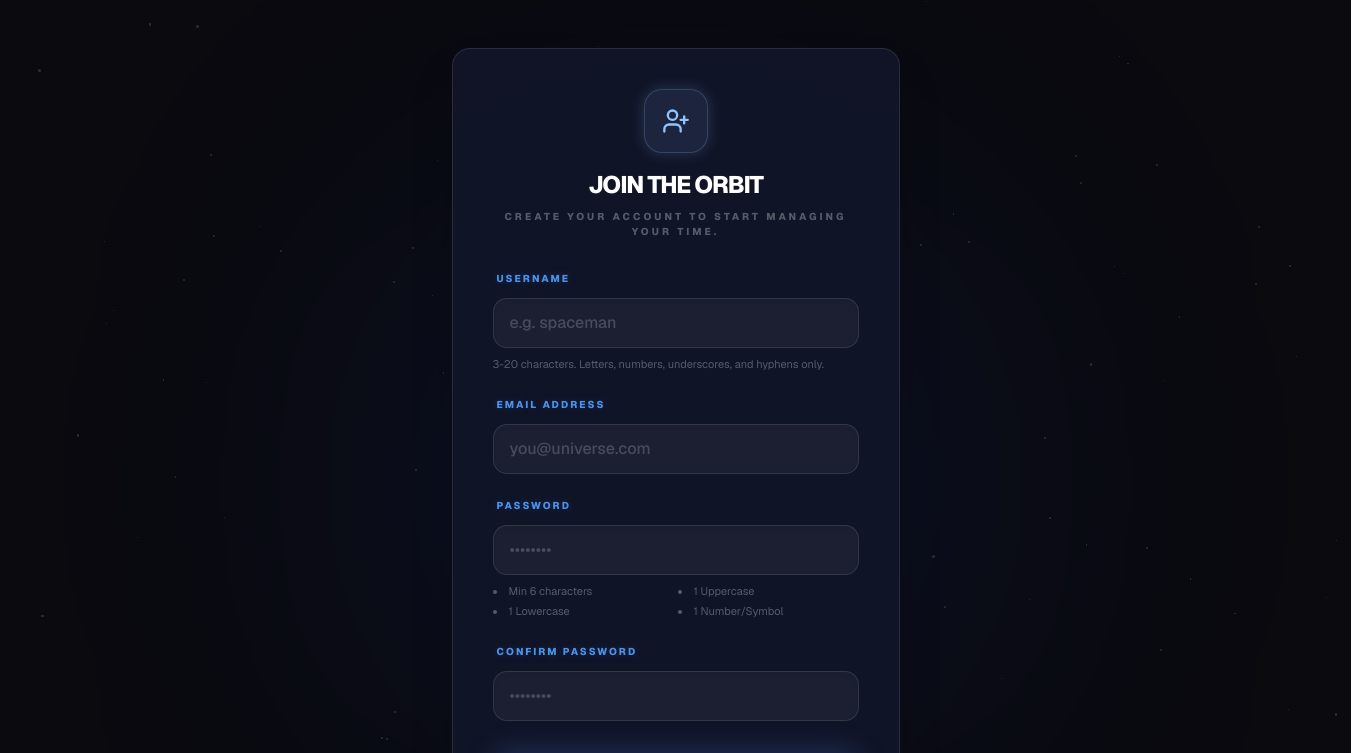
Test case: RegisterPage Component › shows password validation error
Type "testuser" into the field with placeholder "e.g. spaceman" at [676, 323], box top-left (492, 298), bottom-right (858, 348)
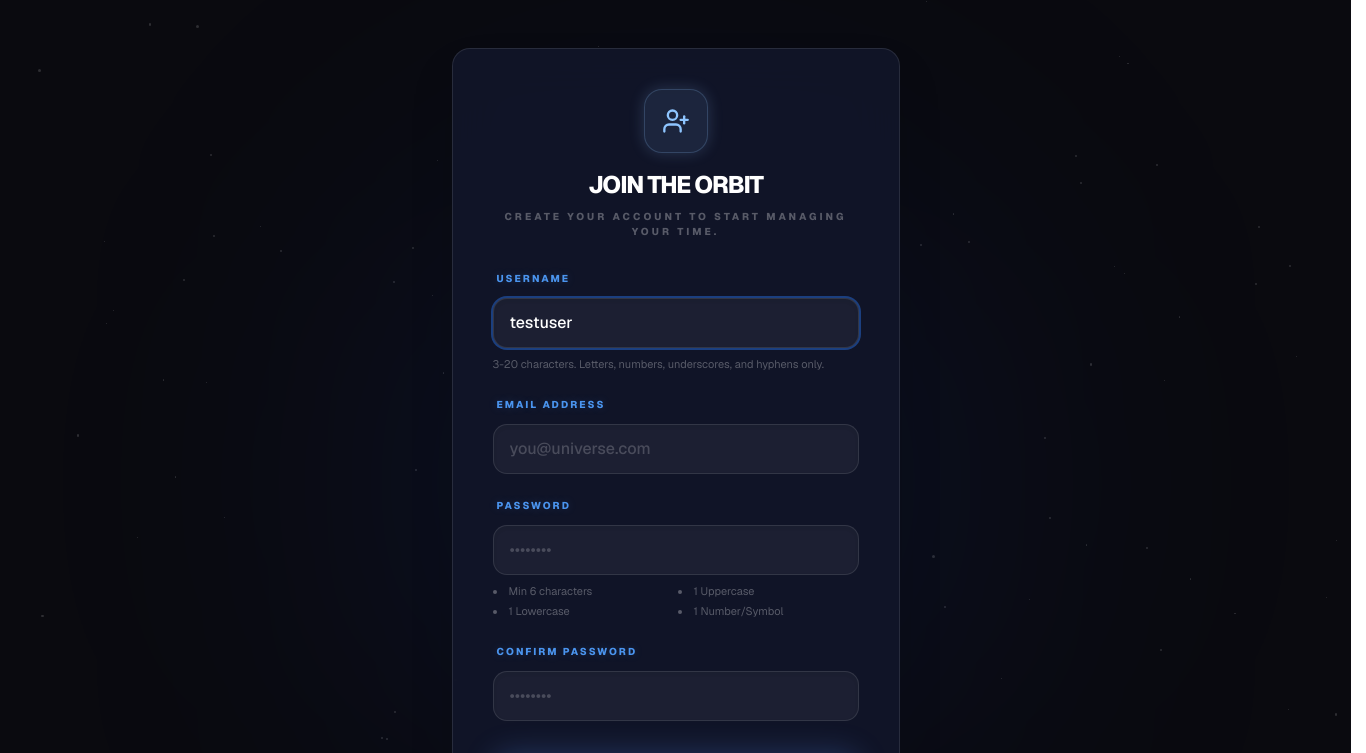
Type "test@example.com" into the field with placeholder "you@universe.com" at [676, 448], box top-left (492, 424), bottom-right (858, 474)
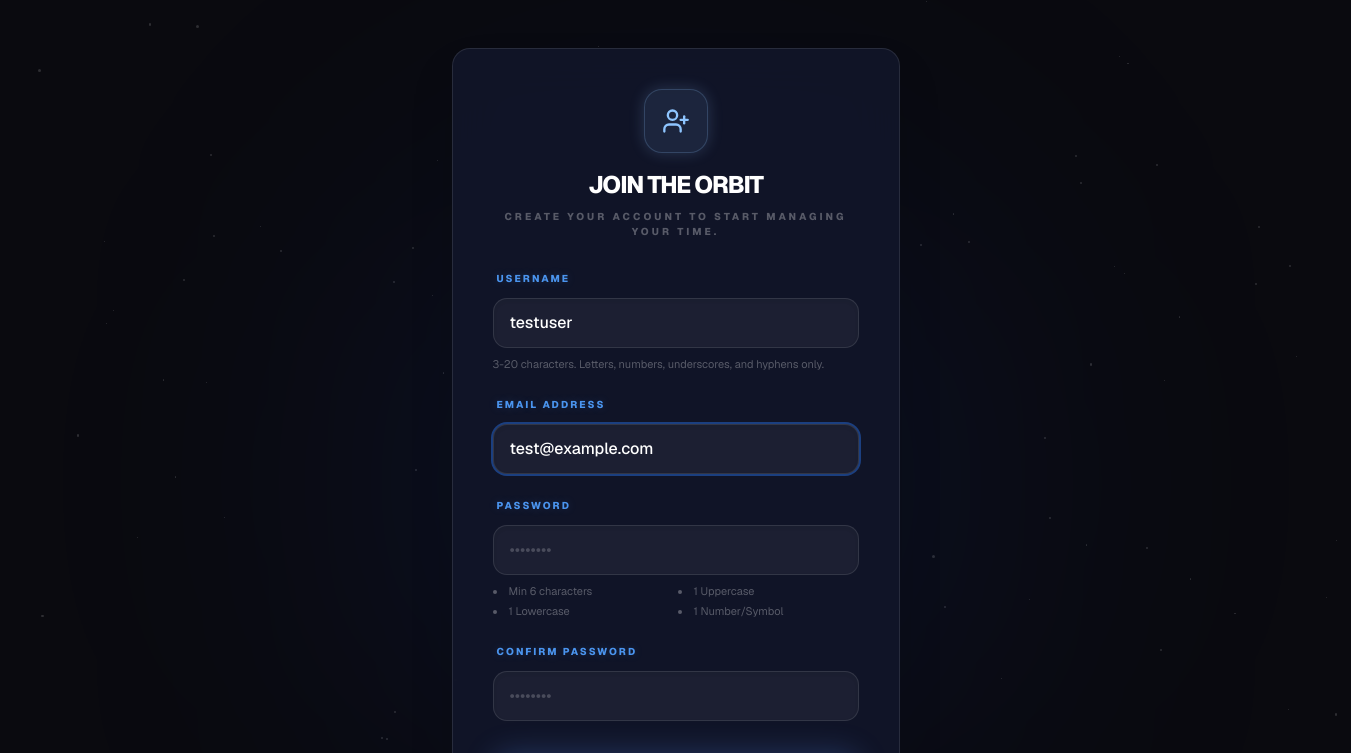
Type "weak" into the 1st password field with placeholder "••••••••" at [676, 550], box top-left (492, 524), bottom-right (858, 574)
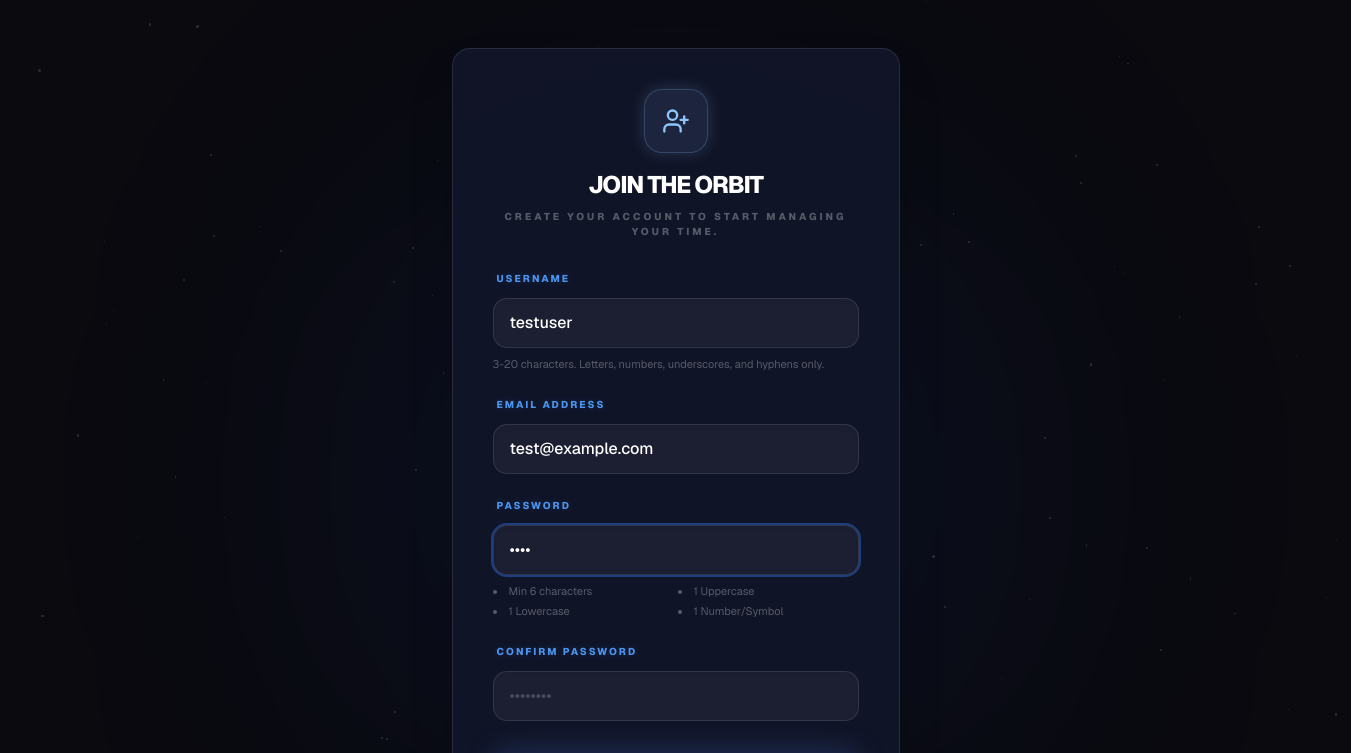
Type "weak" into the password field with placeholder "••••••••" at [676, 696], box top-left (492, 670), bottom-right (858, 720)
(page scrolled)
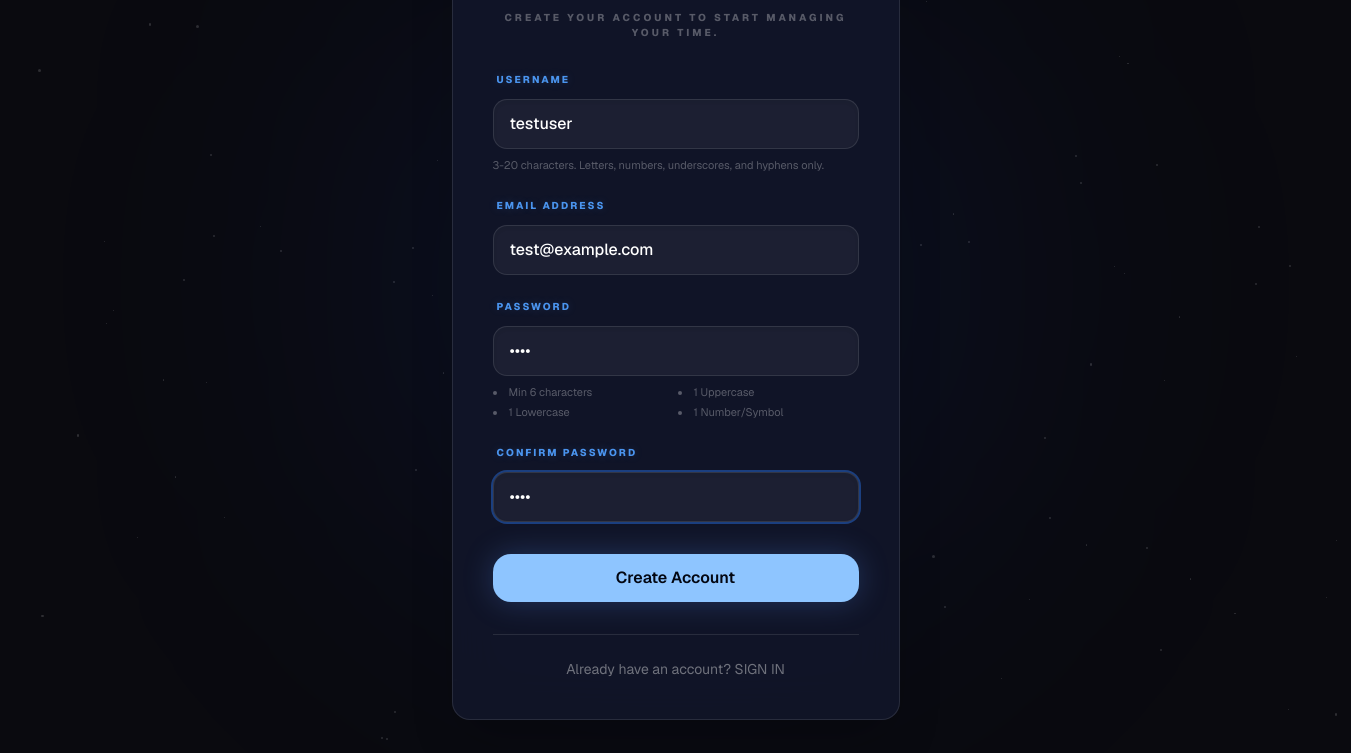
Click the button "Create Account" at [676, 578], box top-left (492, 554), bottom-right (858, 602)
(page scrolled)
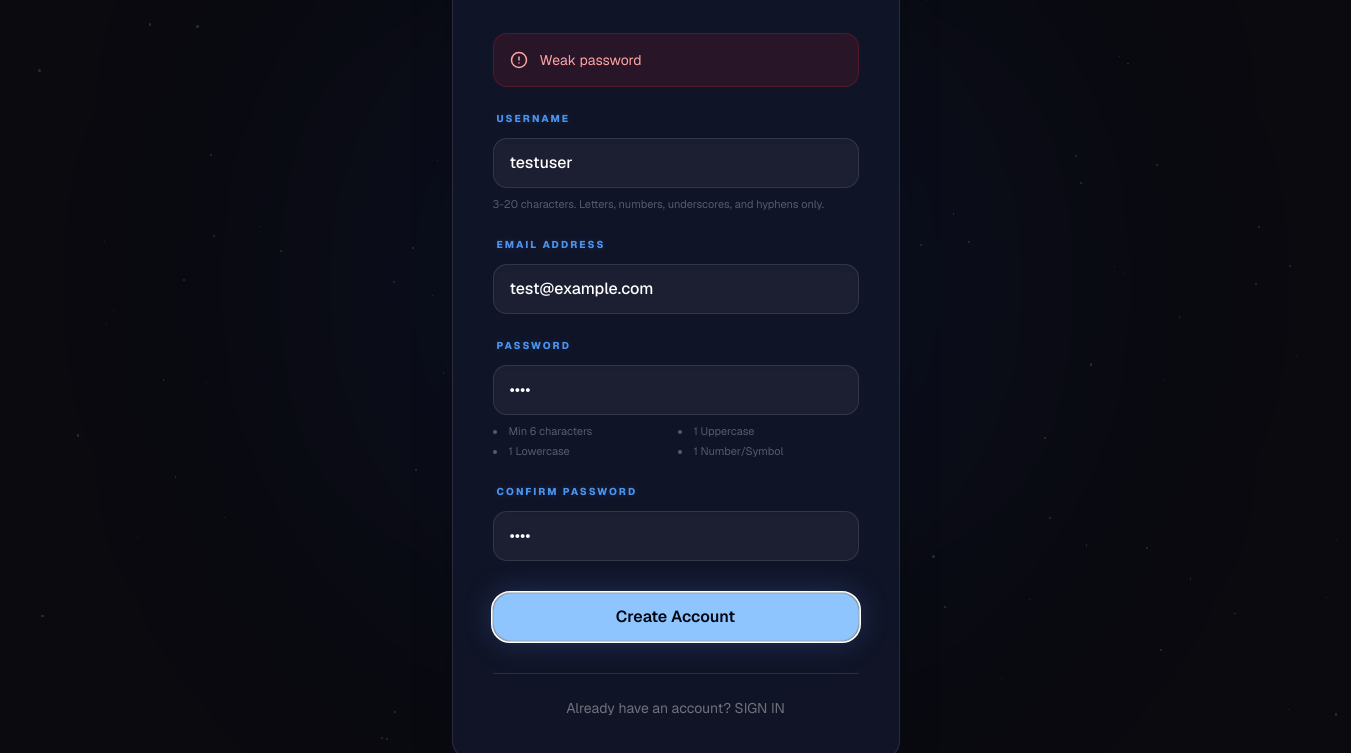
Expected: the text "Weak password" is shown, top-left (540, 50), bottom-right (642, 70)
